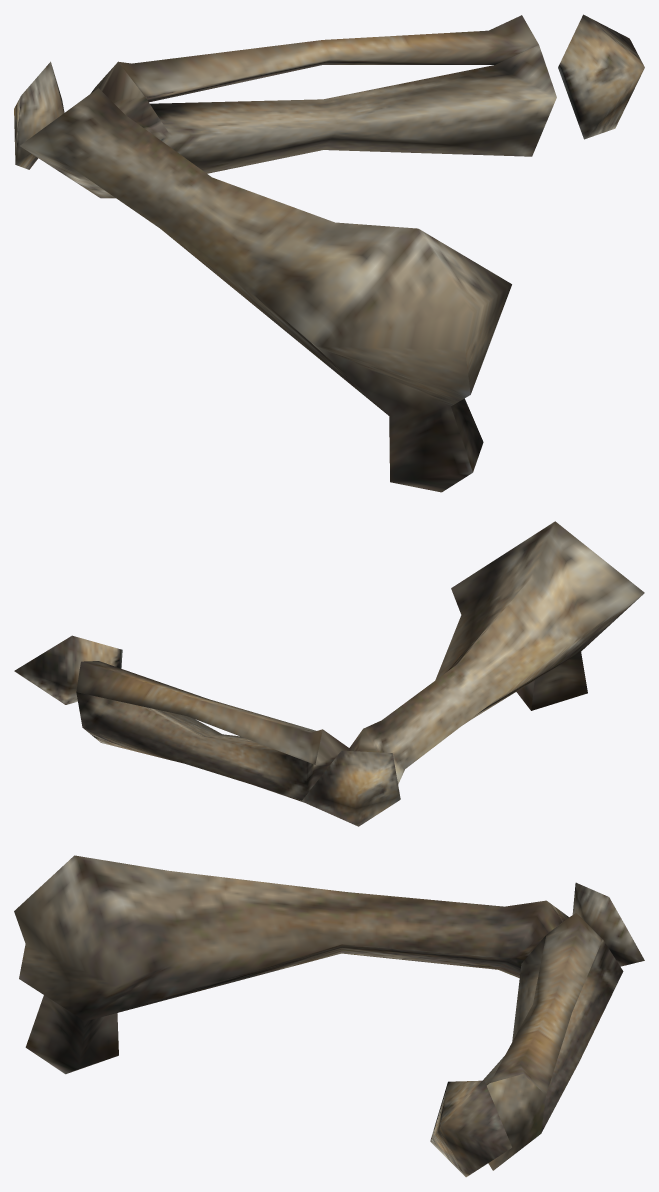
The model's file is SC_tamalagebi_32.FBX.
The picture shows the model from 3 angles, top to bottom: view 1: azimuth 30°, elevation 25°; view 2: azimuth 150°, elevation 25°; view 3: azimuth 270°, elevation 25°; orthographic projection. The views are drawn at different scales.
Parts seen in each view (by area): view 1: SC_tamalagebi_32; view 2: SC_tamalagebi_32; view 3: SC_tamalagebi_32.
Part boxes in pixels (x1,y1,x2,y2): SC_tamalagebi_32: (14, 14, 644, 492); SC_tamalagebi_32: (14, 521, 644, 826); SC_tamalagebi_32: (14, 855, 644, 1177).
Bounding box in the file's own units: 704 × 297 × 802.
